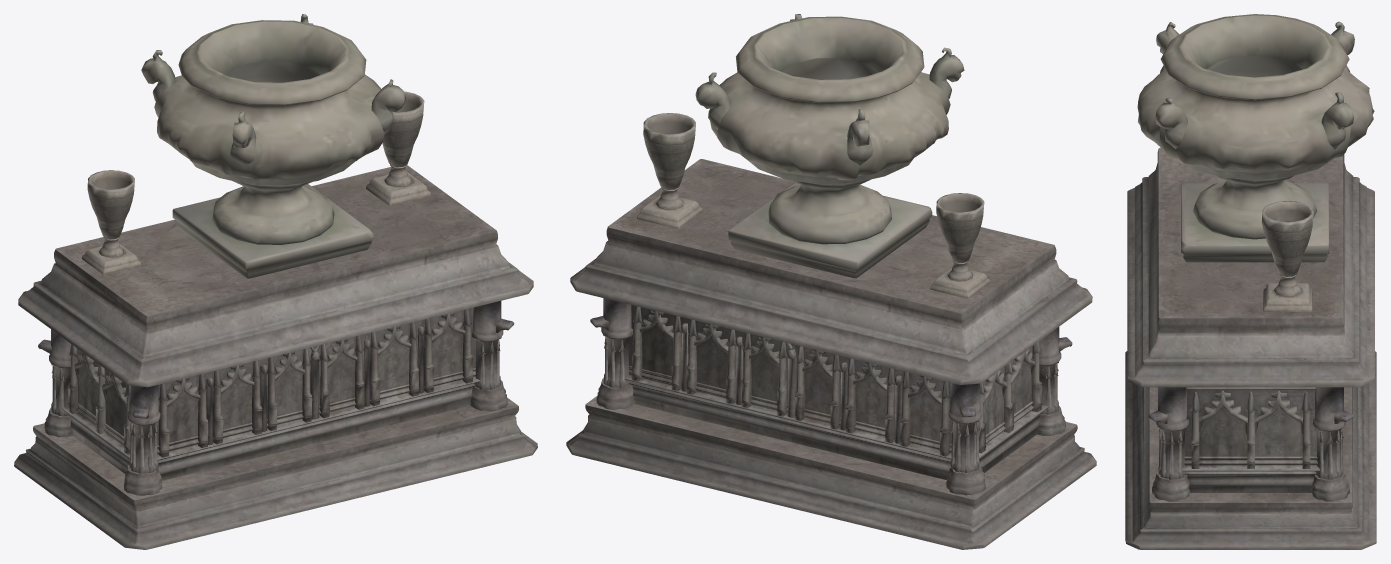
Rendered from AEG020_979out-transformed.glb.
3 views of the same model, side by side, from view 1: azimuth 30°, elevation 25°; view 2: azimuth 150°, elevation 25°; view 3: azimuth 270°, elevation 25° (orthographic).
Visible parts, largest first — view 1: default; view 2: default; view 3: default.
Boxes of the visible parts, x1,y1,x2,y2 form: default: (14, 14, 537, 549); default: (566, 14, 1096, 549); default: (1125, 14, 1376, 549).
Bounding box in the file's own units: 4.31 × 4.02 × 2.28.
2 materials, 2 textured.
